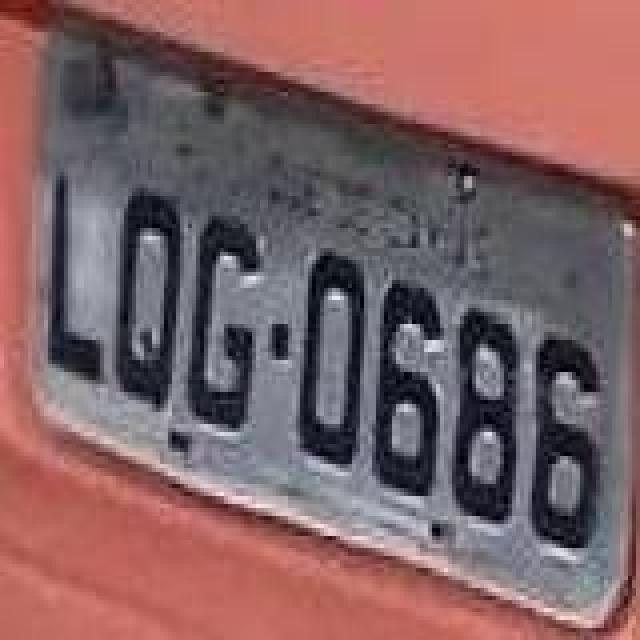6: (370, 276, 446, 500), (532, 336, 604, 552)
8: (448, 308, 520, 524)
G: (186, 212, 262, 436)
L: (44, 176, 100, 384)
O: (298, 248, 366, 472)
Q: (114, 192, 182, 416)
